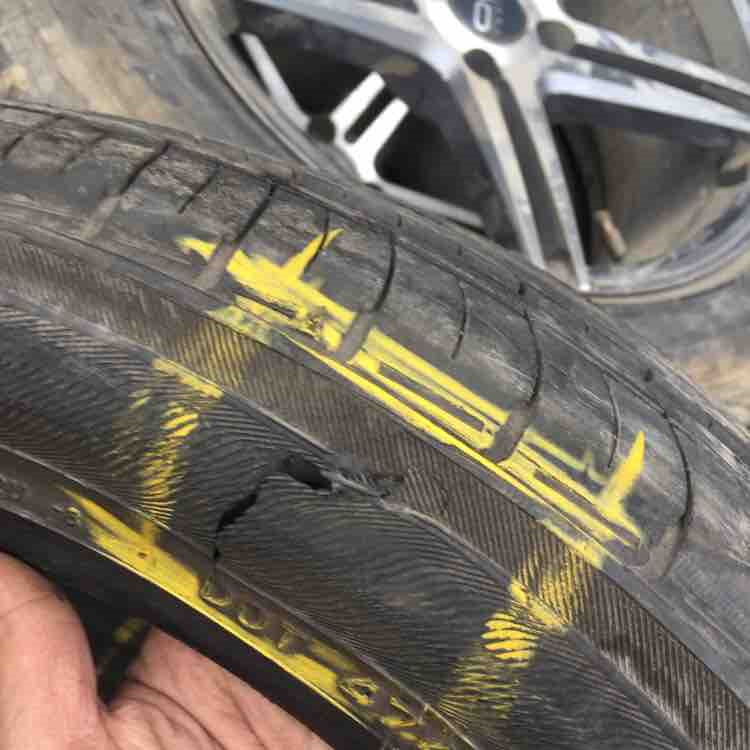cut: (210, 451, 408, 571)
